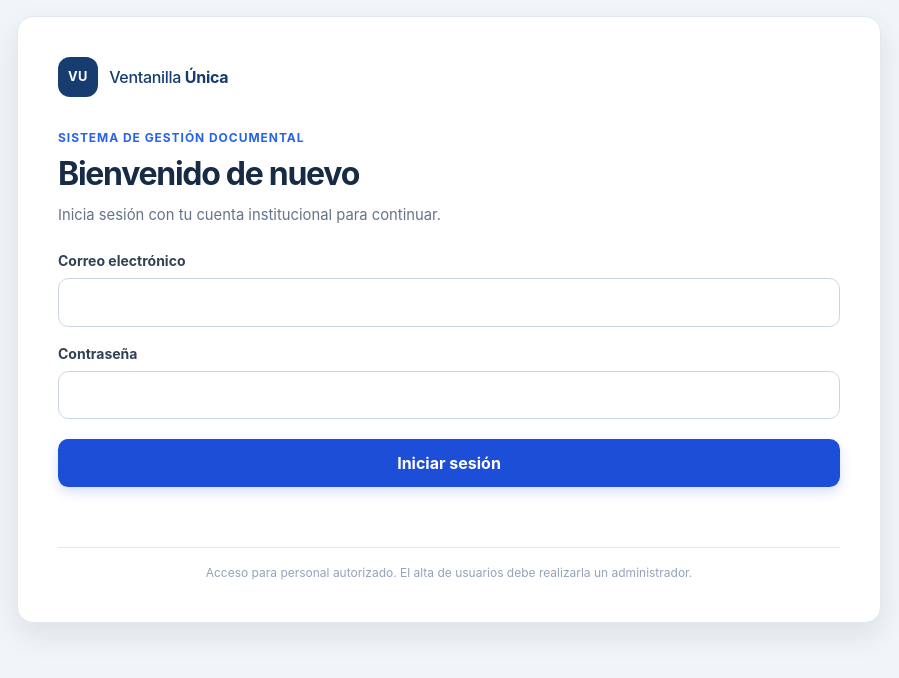
Scenario: inicio de sesión React › muestra el error 403 de una cuenta inactiva sin guardar una sesión
This screenshot has width=899, height=678.
Type "persona@ejemplo.com" into the field labelled "Correo electrónico" at point(449, 302), box [58,278,840,327]
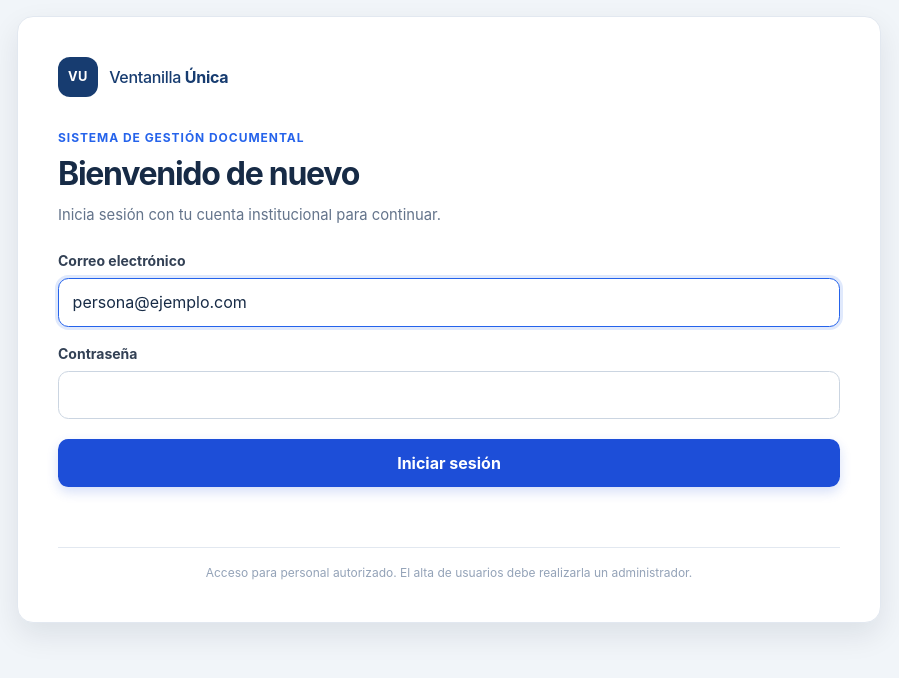
Type "clave-de-prueba" into the password field labelled "Contraseña" at point(449, 395), box [58,371,840,419]
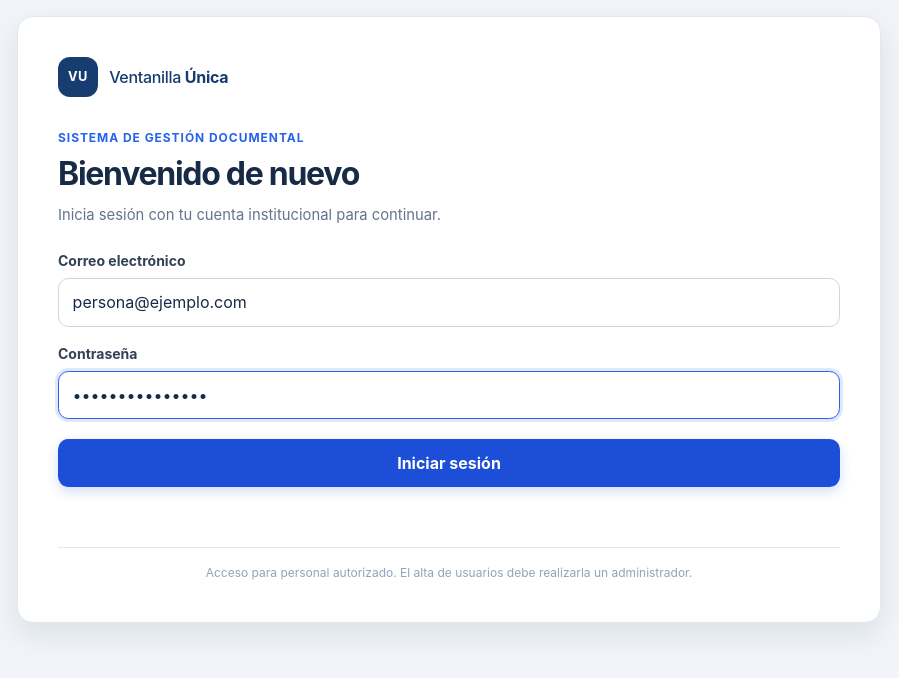
Click the button "Iniciar sesión" at point(449, 463), box [58,439,840,487]
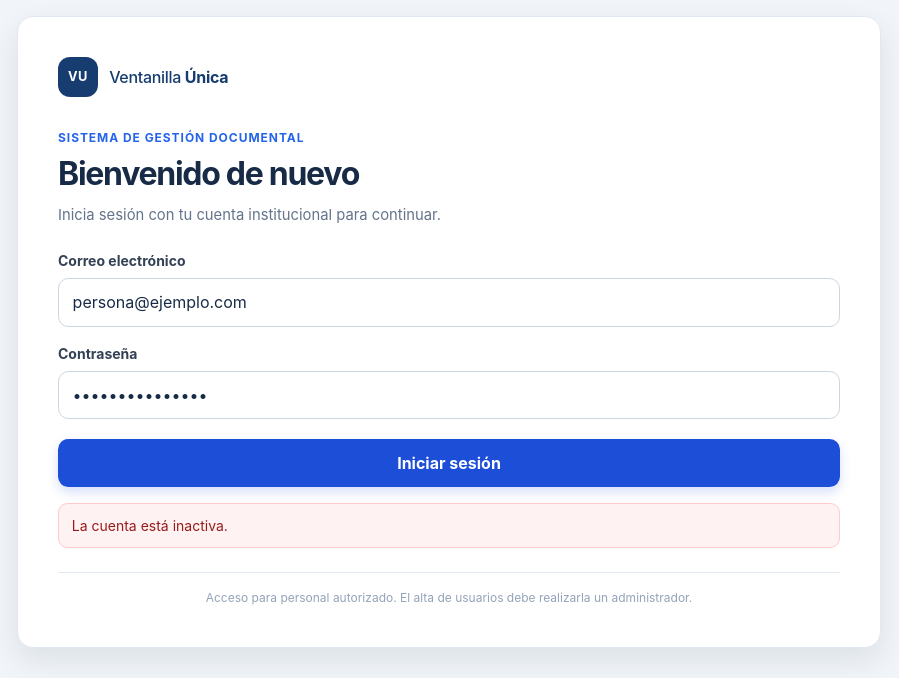
Expected: the text "La cuenta está inactiva." is shown, [58,503,840,548]
